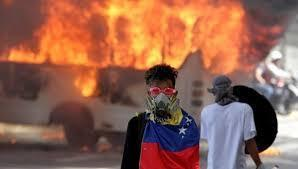fire: (1, 0, 280, 95)
